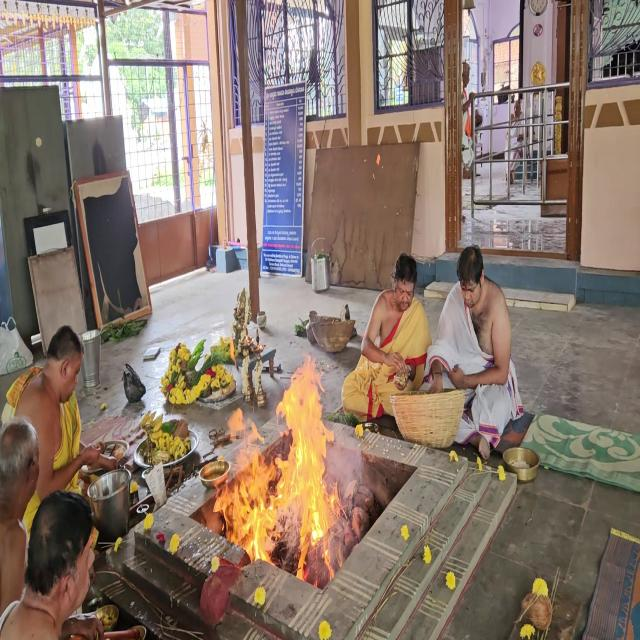fire: (200, 358, 354, 602)
